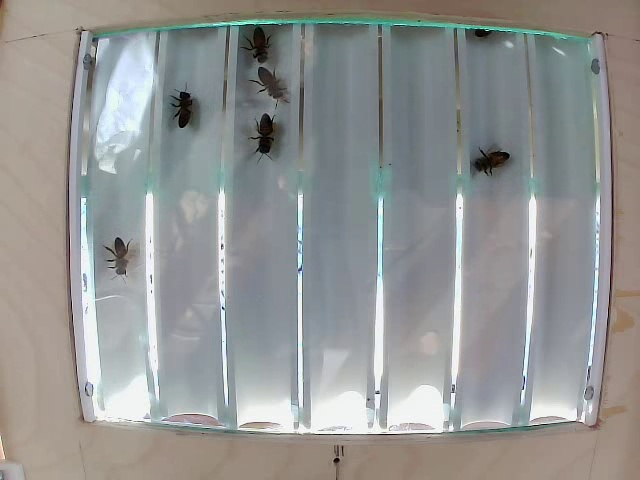bee: (246, 116, 286, 164), (472, 144, 514, 183), (247, 67, 283, 103), (99, 249, 139, 281), (168, 95, 192, 137), (242, 26, 271, 56)
